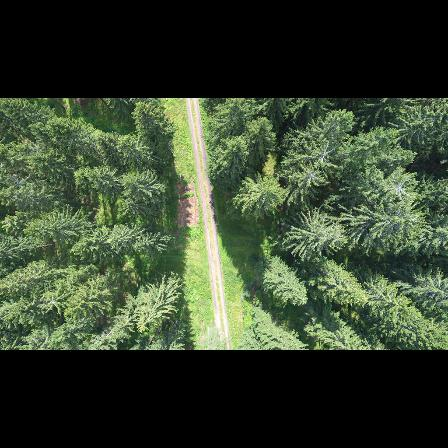Sick: (311, 140, 341, 174), (384, 174, 413, 204), (299, 162, 326, 191)
